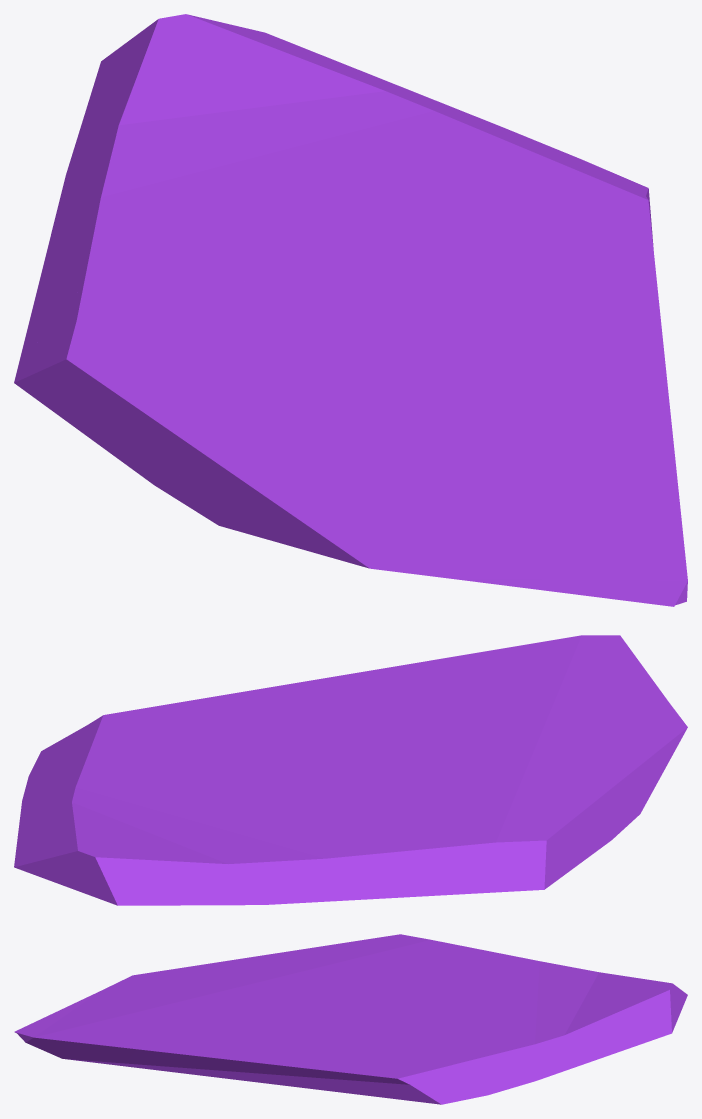
The model's file is Glass_100_3_9_chunks.fbx.
3 renders of one model, top to bottom at view 1: azimuth 30°, elevation 25°; view 2: azimuth 150°, elevation 25°; view 3: azimuth 270°, elevation 25°, orthographic. The views are drawn at different scales.
Visible parts, largest first — view 1: Glass_100_3_9_0, Glass_100_3_9_5, Glass_100_3_9_1, Glass_100_3_9_4, Glass_100_3_9_11, Glass_100_3_9_7, Glass_100_3_9_8, Glass_100_3_9_9, Glass_100_3_9_6, Glass_100_3_9_12, Glass_100_3_9_3; view 2: Glass_100_3_9_0, Glass_100_3_9_4, Glass_100_3_9_1, Glass_100_3_9_5, Glass_100_3_9_11, Glass_100_3_9_7, Glass_100_3_9_8, Glass_100_3_9_9, Glass_100_3_9_12, Glass_100_3_9_6, Glass_100_3_9_3, Glass_100_3_9_10; view 3: Glass_100_3_9_5, Glass_100_3_9_4, Glass_100_3_9_0, Glass_100_3_9_11, Glass_100_3_9_12, Glass_100_3_9_9, Glass_100_3_9_6, Glass_100_3_9_7, Glass_100_3_9_1, Glass_100_3_9_8, Glass_100_3_9_3, Glass_100_3_9_10.
Part boxes in pixels (bbox=[...]): Glass_100_3_9_0: bbox=[14, 278, 384, 485]; Glass_100_3_9_5: bbox=[339, 430, 687, 606]; Glass_100_3_9_1: bbox=[18, 160, 358, 365]; Glass_100_3_9_4: bbox=[60, 14, 372, 196]; Glass_100_3_9_11: bbox=[357, 202, 663, 346]; Glass_100_3_9_7: bbox=[287, 298, 587, 439]; Glass_100_3_9_8: bbox=[156, 393, 433, 560]; Glass_100_3_9_9: bbox=[350, 75, 525, 221]; Glass_100_3_9_6: bbox=[495, 333, 676, 471]; Glass_100_3_9_12: bbox=[477, 142, 656, 280]; Glass_100_3_9_3: bbox=[245, 77, 358, 265]; Glass_100_3_9_0: bbox=[325, 766, 615, 890]; Glass_100_3_9_4: bbox=[14, 811, 294, 905]; Glass_100_3_9_1: bbox=[228, 776, 520, 903]; Glass_100_3_9_5: bbox=[445, 635, 687, 742]; Glass_100_3_9_11: bbox=[177, 684, 338, 787]; Glass_100_3_9_7: bbox=[302, 706, 503, 774]; Glass_100_3_9_8: bbox=[502, 727, 678, 839]; Glass_100_3_9_9: bbox=[17, 759, 250, 836]; Glass_100_3_9_12: bbox=[40, 698, 204, 774]; Glass_100_3_9_6: bbox=[288, 658, 465, 712]; Glass_100_3_9_3: bbox=[74, 779, 307, 826]; Glass_100_3_9_10: bbox=[24, 752, 56, 793]; Glass_100_3_9_5: bbox=[14, 971, 229, 1065]; Glass_100_3_9_4: bbox=[530, 967, 687, 1054]; Glass_100_3_9_0: bbox=[271, 934, 462, 1008]; Glass_100_3_9_11: bbox=[258, 1006, 451, 1091]; Glass_100_3_9_12: bbox=[320, 1041, 497, 1104]; Glass_100_3_9_9: bbox=[439, 1013, 609, 1084]; Glass_100_3_9_6: bbox=[121, 1015, 288, 1083]; Glass_100_3_9_7: bbox=[222, 976, 373, 1048]; Glass_100_3_9_1: bbox=[399, 946, 569, 1007]; Glass_100_3_9_8: bbox=[160, 954, 309, 1000]; Glass_100_3_9_3: bbox=[411, 996, 583, 1027]; Glass_100_3_9_10: bbox=[444, 1072, 522, 1104].
Size of the model in its own units: 717 by 164 by 1181.
